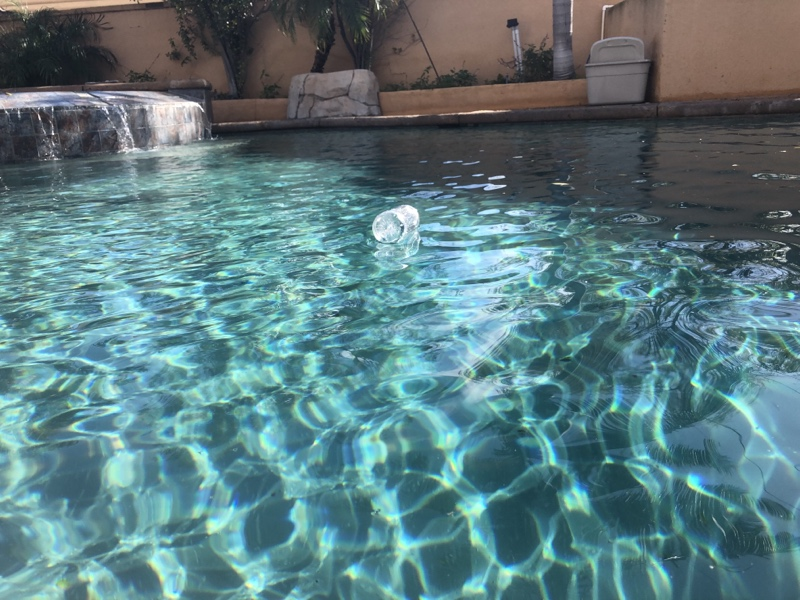Plastic Bottle: (367, 202, 424, 245)
